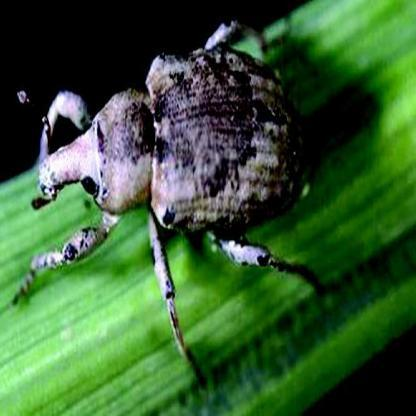rice-bug: (31, 20, 319, 319)
